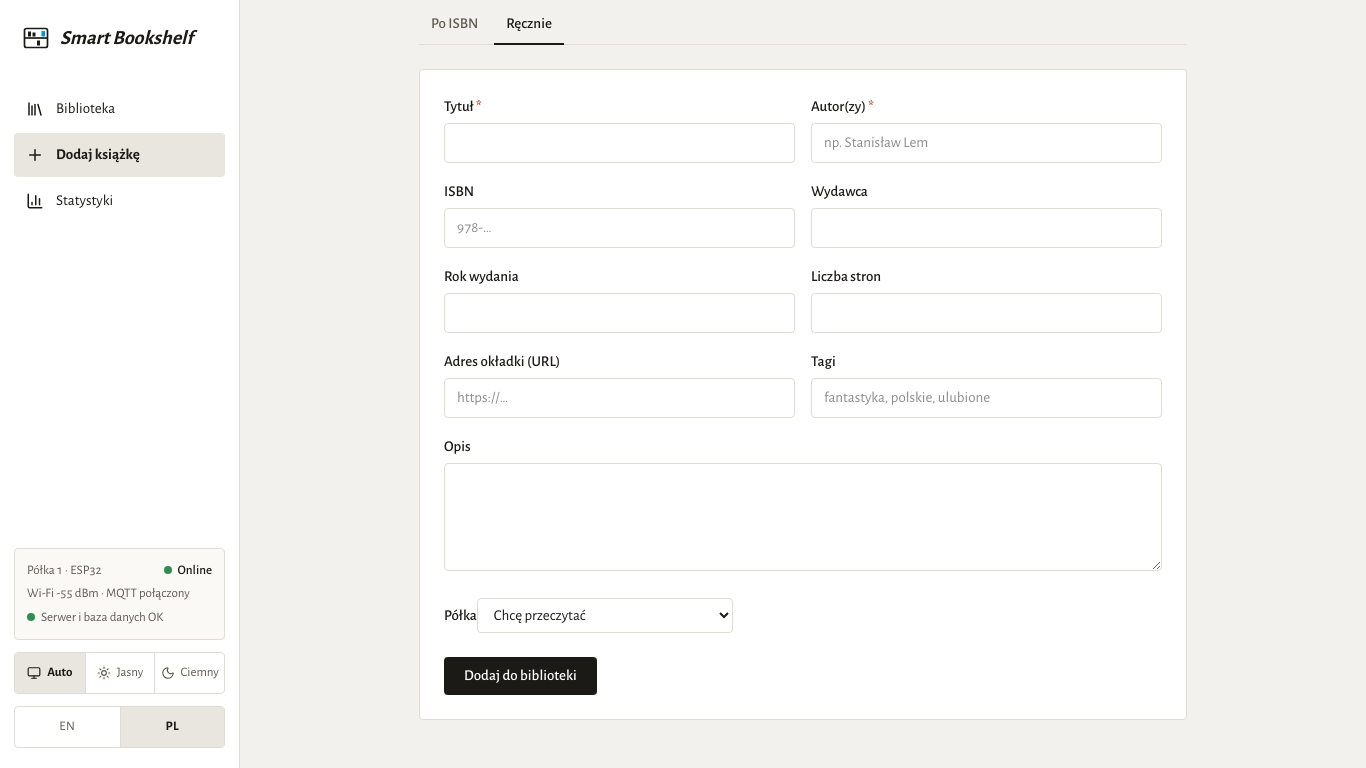
language switch › shows client-side validation messages in Polish
(page scrolled)
Click the button "Dodaj do biblioteki" at x=520, y=676, box [444,656,597,695]
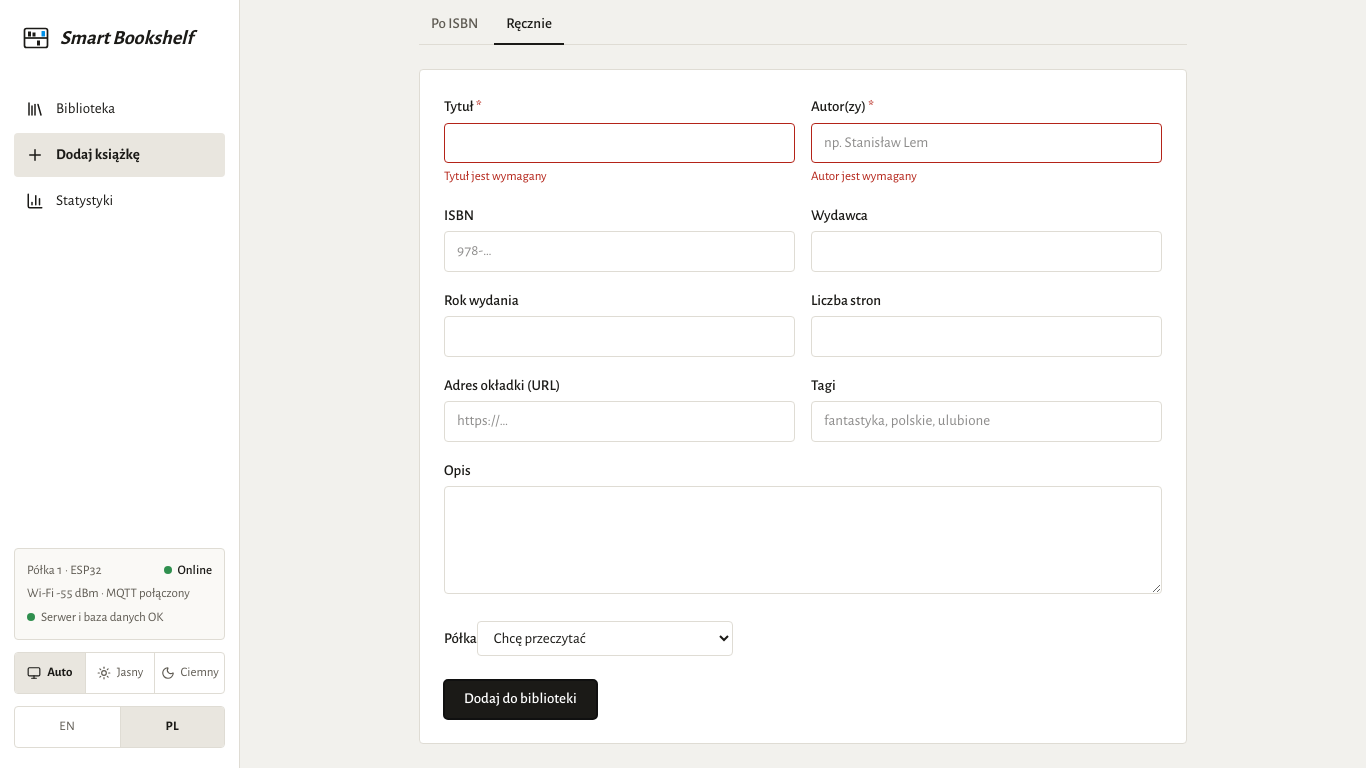
Expected: the text "Tytuł jest wymagany" is shown, [444,170,547,183]
Expected: the text "Autor jest wymagany" is shown, [811,170,917,183]
